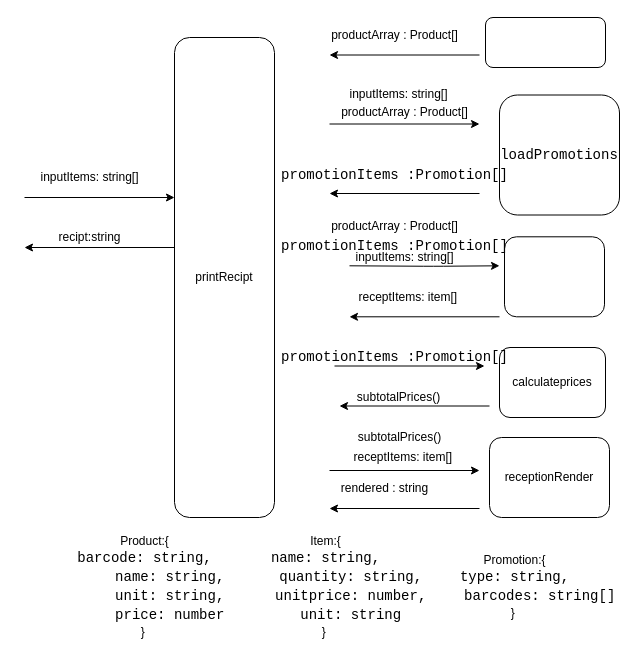
Some shapes in this 637 by 658 pixel diagram are drawn without their labels. The shapes that lost their labels are listed below. From the top down, each one's centre as x and y in pixels, then its label:
the point at 545,42: loadAllItems
the point at 554,276: buildRecpteItems
